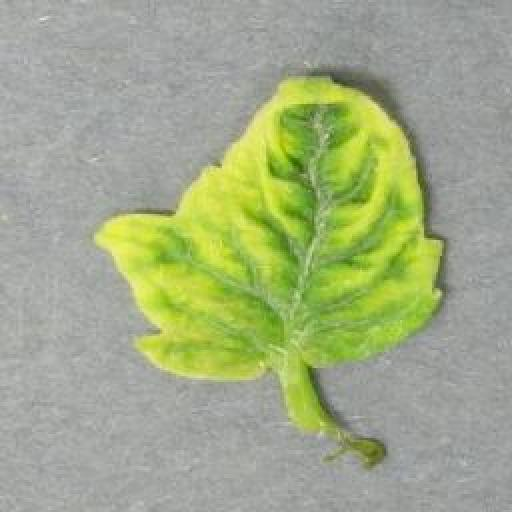disease_tomato: (95, 70, 444, 384)
